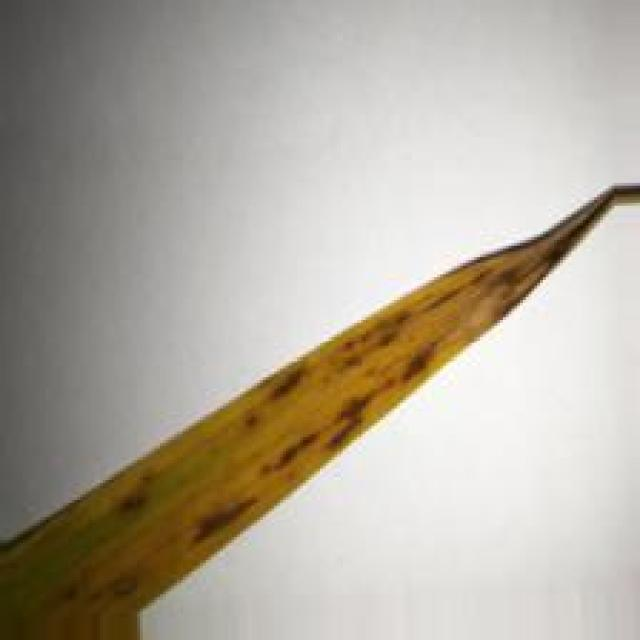Narrow_Brown_Leaf_Spot: (0, 183, 640, 639)
